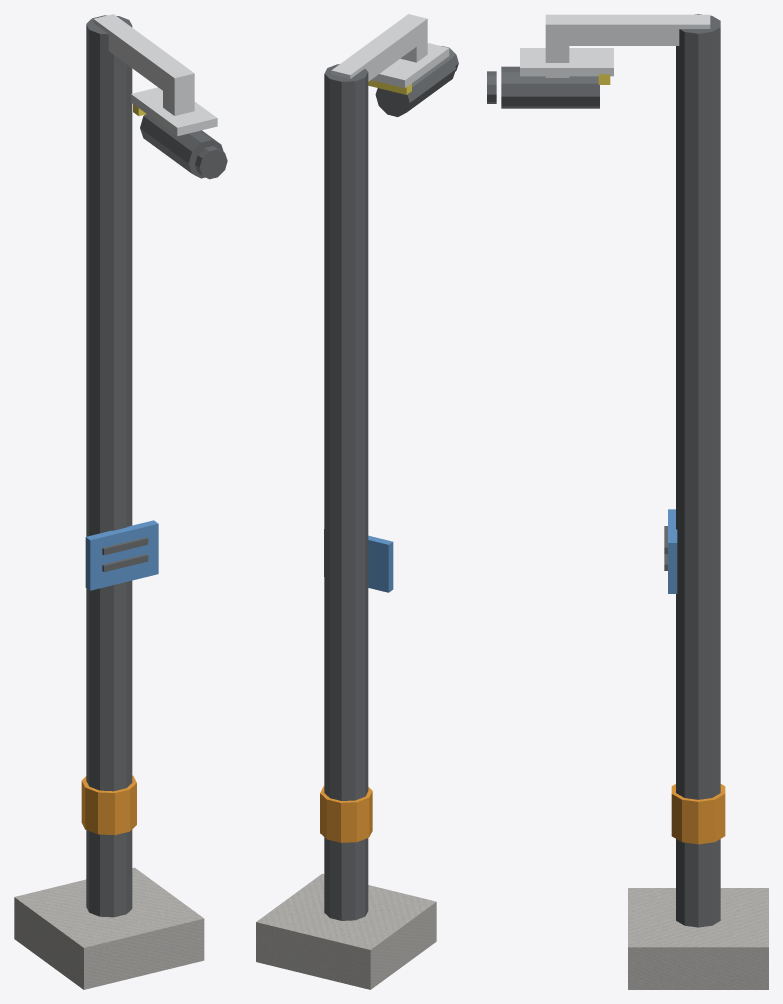
File: recycling-and-waste-transfer-yard-recycling-and-waste--cbc2cecf__34928.glb
The picture shows the model from 3 angles, left to right: view 1: azimuth 30°, elevation 25°; view 2: azimuth 150°, elevation 25°; view 3: azimuth 270°, elevation 25°; orthographic projection. The views are drawn at different scales.
Visible parts, largest first — view 1: recycling-and-waste-transfer-yard-cctv-pole; view 2: recycling-and-waste-transfer-yard-cctv-pole; view 3: recycling-and-waste-transfer-yard-cctv-pole.
Boxes of the visible parts, x1,y1,x2,y2 form: recycling-and-waste-transfer-yard-cctv-pole: (14, 14, 227, 989); recycling-and-waste-transfer-yard-cctv-pole: (256, 14, 458, 989); recycling-and-waste-transfer-yard-cctv-pole: (487, 14, 768, 989).
Size of the model in its own units: 0.6 by 4.42 by 1.2.
6 materials, 1 textured.
